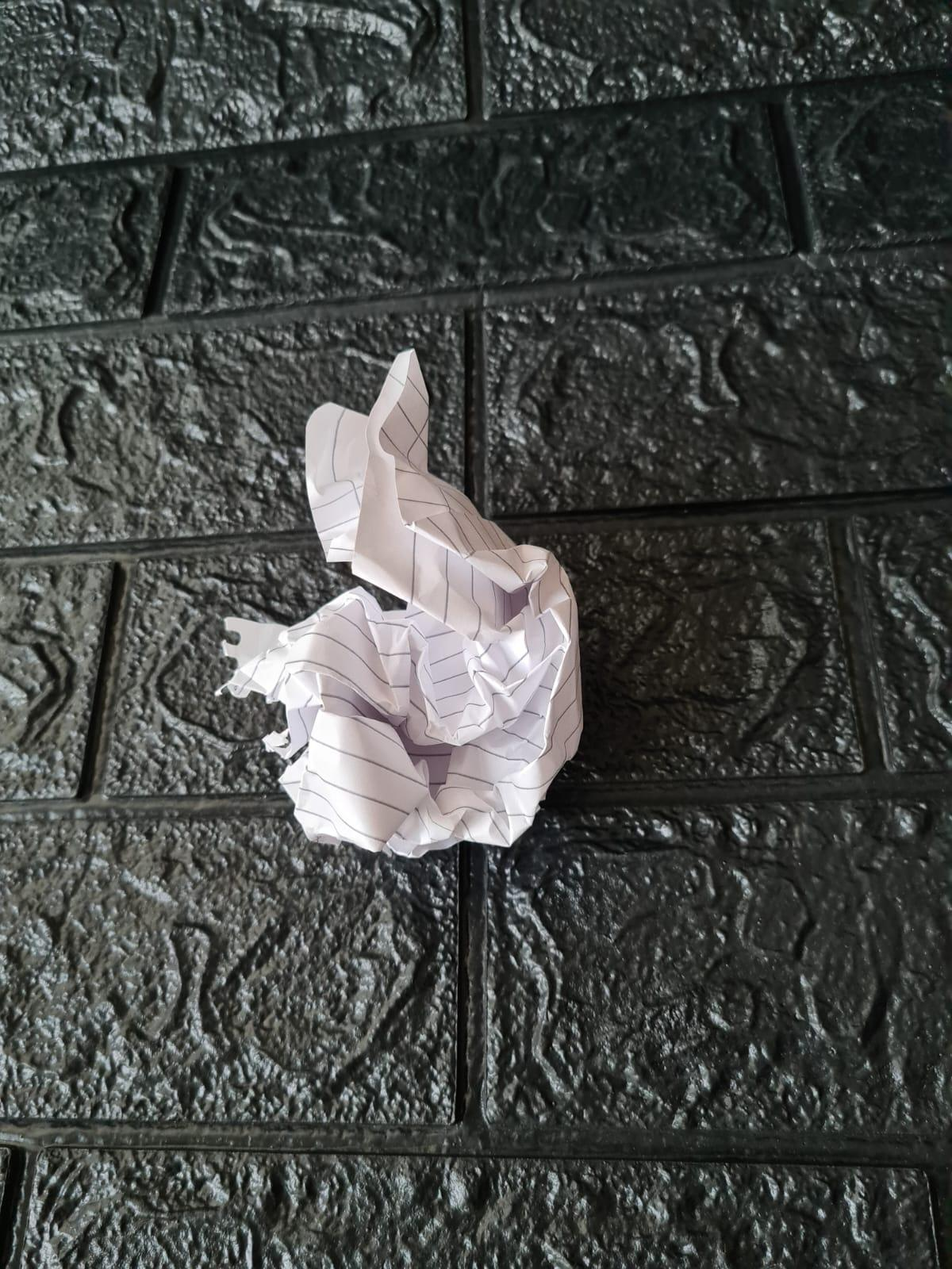paper: (244, 366, 596, 849)
